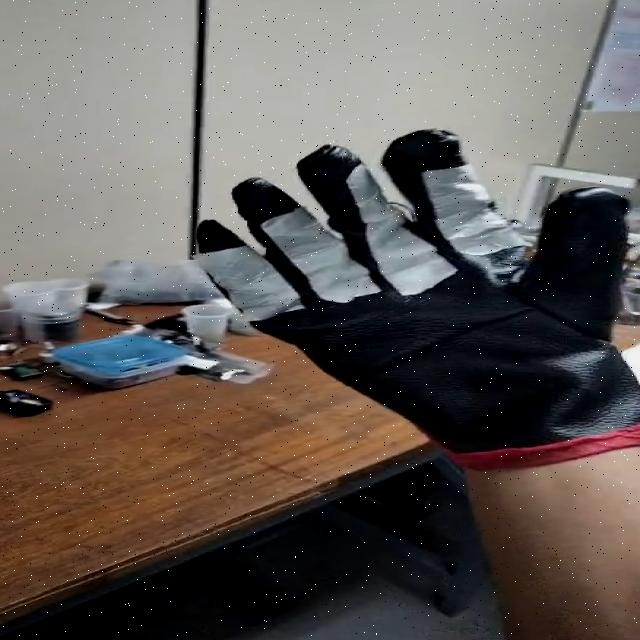Gloves: (190, 122, 640, 453)
